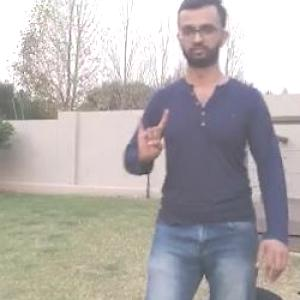takeoff-hand: (124, 101, 178, 170)
